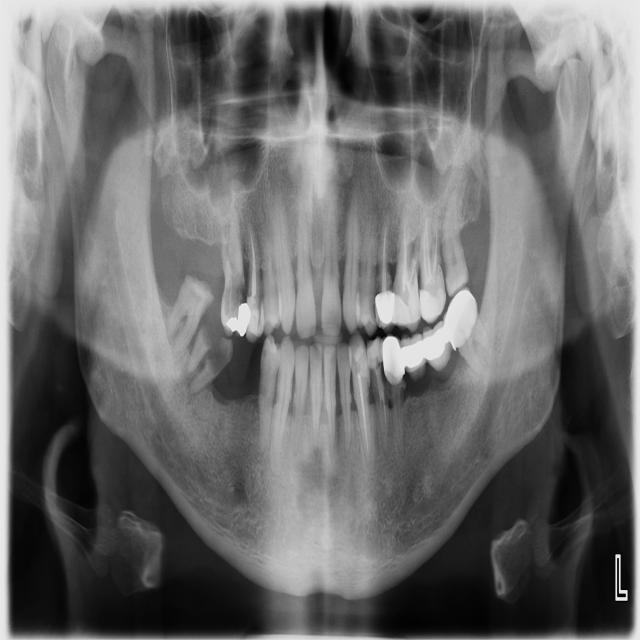mandibula: (43, 16, 591, 605)
